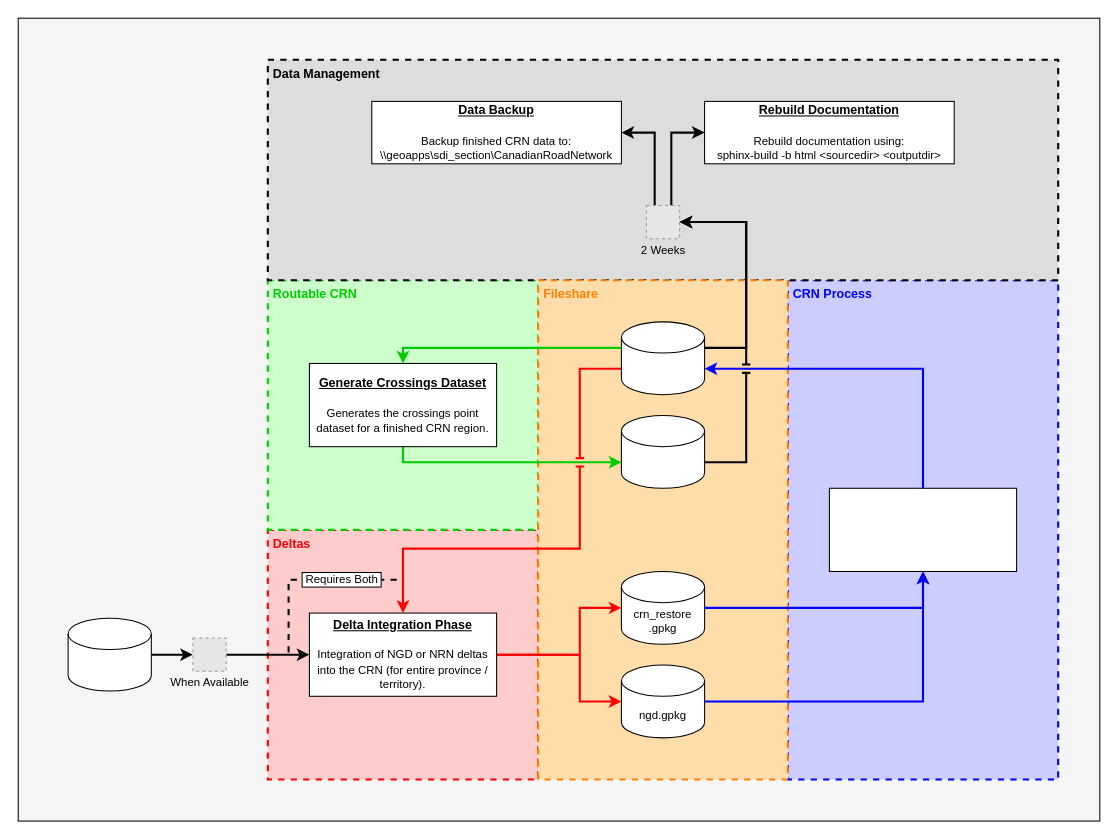
Image size: 1118x839. Some labels were removed from this diagram. Grey dashed boxes stand in for pictures. The shapes that lost their labels are listed below. From the top down, each one's centre as x and y in pixels, then its label:
point 662,358: crn_finished .gpkg
point 662,451: crn_crossings _finished.gpkg
point 922,529: CRN Implementation Process Tasks outlined in the CRN overview documentation.
point 109,654: NGD or NRN (latest)
